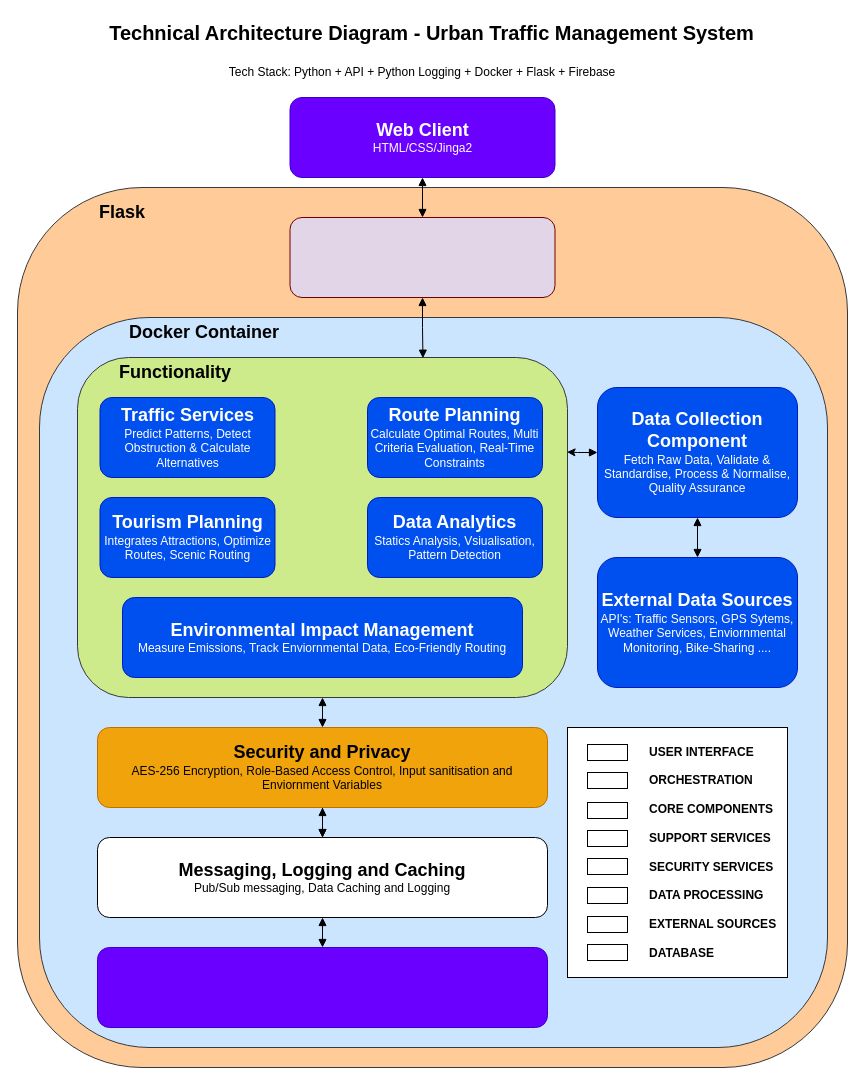
The diagram is 865 pixels wide and 1085 high, and some of its shapes have lost their labels. Here are the shapes that lost their labels. From the top down, the centre of each, then its label:
the point at 422,257: Application Rest API/Python Backend
the point at 322,987: Firebase Database Database to Manage Current, Historical and User Data
